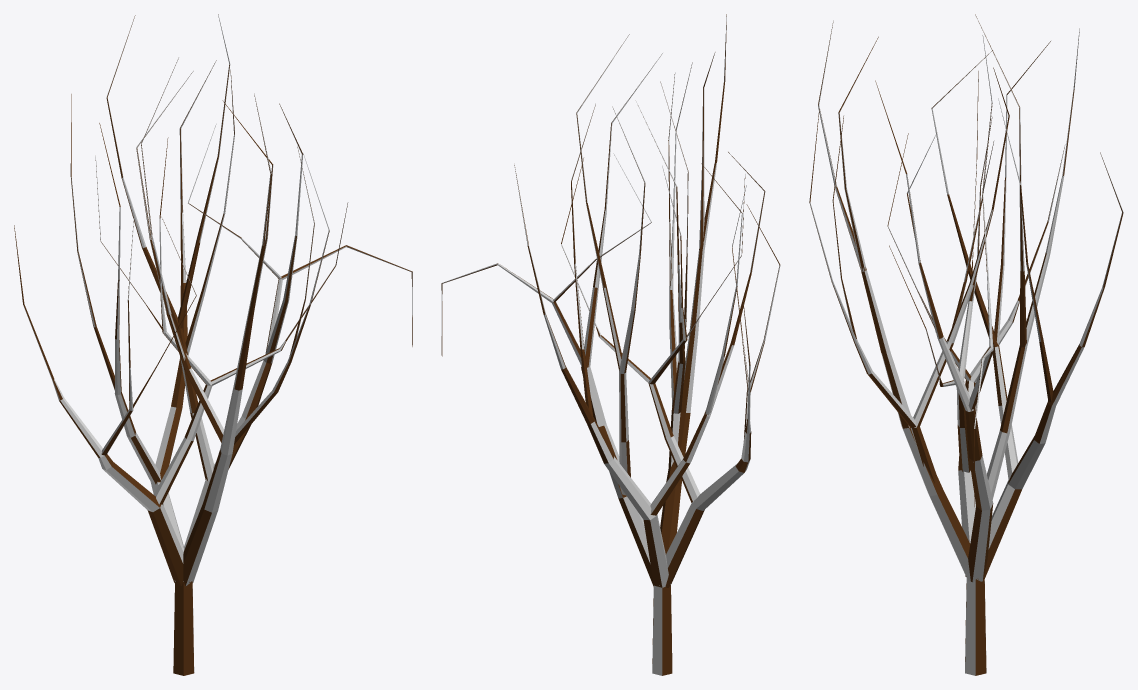
The model's file is Tree_26.fbx.
3 views of the same model, side by side, from view 1: azimuth 30°, elevation 25°; view 2: azimuth 150°, elevation 25°; view 3: azimuth 270°, elevation 25° (orthographic). The views are drawn at different scales.
Visible parts, largest first — view 1: Tree_26; view 2: Tree_26; view 3: Tree_26.
Part boxes in pixels (x1,y1,x2,y2): Tree_26: (14,14,412,675); Tree_26: (441,14,780,675); Tree_26: (809,14,1123,675).
Size of the model in its own units: 344 by 601 by 254.
